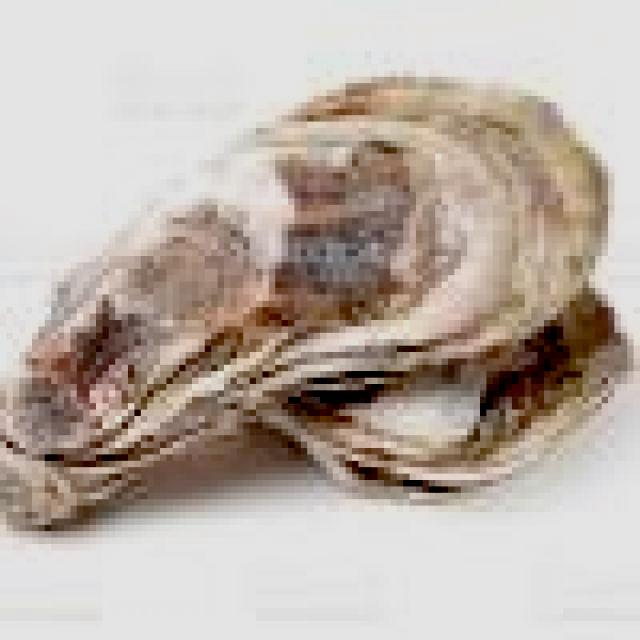Oyster-Closed: (12, 83, 605, 523), (269, 293, 625, 481)
